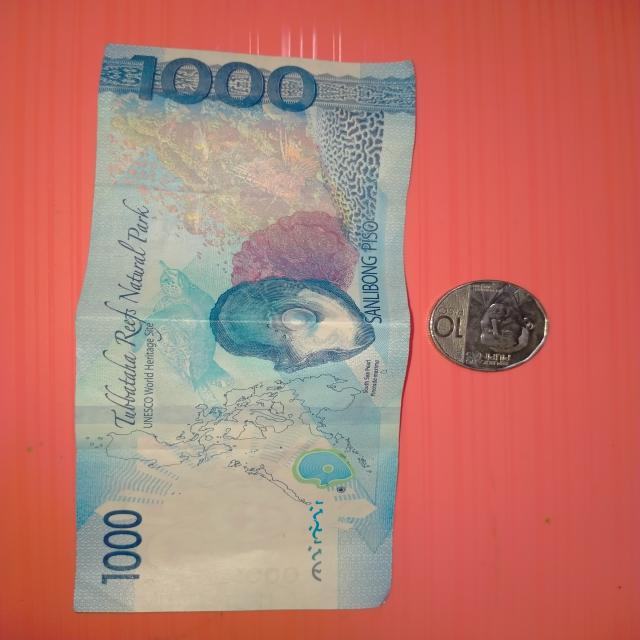see_through_mark: (302, 494, 339, 592)
value_watermark: (227, 565, 301, 587)
watermark: (142, 486, 317, 594)
